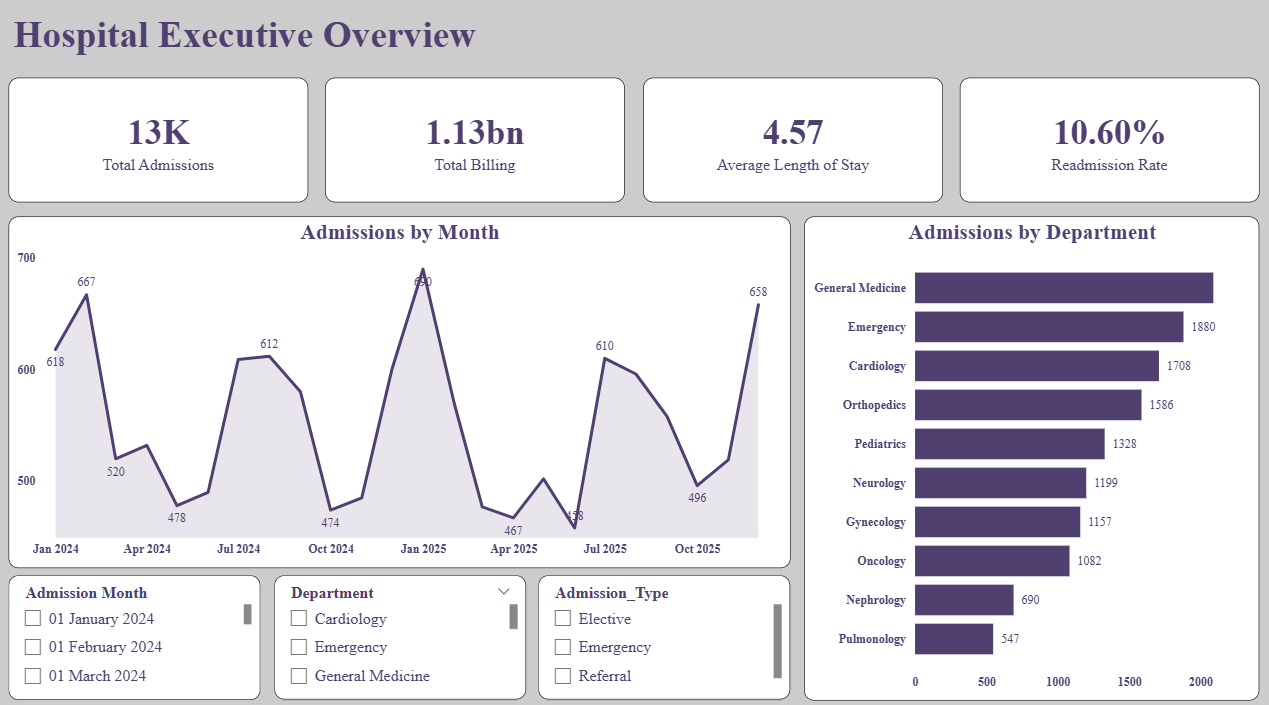

What the dashboard file says about the page in this screenshot:
{"tool":"powerbi","page":{"name":"Hospital Executive overview","canvas":[1280,720],"ordinal":0},"visuals":[{"type":"card","fields":{"Values":["hospital_admissions_cleaned.Total Admissions"]},"box":[13.4,84.5,299.6,124.8],"z":0},{"type":"card","fields":{"Values":["hospital_admissions_cleaned.Total Billing"]},"box":[330.3,84.5,299.6,124.8],"z":1000},{"type":"card","fields":{"Values":["hospital_admissions_cleaned.Readmission Rate (%)"]},"box":[964.1,84.5,299.6,124.8],"z":1500},{"type":"card","fields":{"Values":["hospital_admissions_cleaned.Average Length of Stay"]},"box":[647.2,84.5,299.6,124.8],"z":2000},{"type":"lineChart","title":" Admissions by  Month ","fields":{"Y":["hospital_admissions_cleaned.Total Admissions"],"Category":["hospital_admissions_cleaned.Admission Month.Variation.Date Hierarchy.Year","hospital_admissions_cleaned.Admission Month.Variation.Date Hierarchy.Quarter","hospital_admissions_cleaned.Admission Month.Variation.Date Hierarchy.Month","hospital_admissions_cleaned.Admission Month.Variation.Date Hierarchy.Day"]},"box":[13.4,222.8,781.6,351.4],"z":4000},{"type":"textbox","box":[12.8,14.6,500.2,52.9],"z":5000},{"type":"clusteredBarChart","title":"Admissions by Department","fields":{"Category":["hospital_admissions_cleaned.department"],"Y":["hospital_admissions_cleaned.Total Admissions"]},"box":[808.5,222.8,455.1,483.9],"z":6000},{"type":"slicer","fields":{"Values":["hospital_admissions_cleaned.Admission Month"]},"box":[13.4,581.9,251.6,124.8],"z":7000},{"type":"slicer","fields":{"Values":["hospital_admissions_cleaned.department"]},"box":[279.3,582.4,251.9,124.1],"z":8000},{"type":"slicer","fields":{"Values":["hospital_admissions_cleaned.admission_type"]},"box":[542.2,582.4,251.9,124.1],"z":9000}]}

Visuals, with their boxes in screenshot pixels (x1, y1, x2, y2), scaled from the page's 1280x720 canvas onto the 1269x705 screenshot:
card - hospital_admissions_cleaned.Total Admissions: BBox(13, 83, 310, 205)
card - hospital_admissions_cleaned.Total Billing: BBox(327, 83, 624, 205)
card - hospital_admissions_cleaned.Readmission Rate (%): BBox(956, 83, 1253, 205)
card - hospital_admissions_cleaned.Average Length of Stay: BBox(642, 83, 939, 205)
" Admissions by  Month " lineChart: BBox(13, 218, 788, 562)
textbox: BBox(13, 14, 509, 66)
"Admissions by Department" clusteredBarChart: BBox(802, 218, 1253, 692)
slicer - hospital_admissions_cleaned.Admission Month: BBox(13, 570, 263, 692)
slicer - hospital_admissions_cleaned.department: BBox(277, 570, 527, 692)
slicer - hospital_admissions_cleaned.admission_type: BBox(538, 570, 787, 692)
